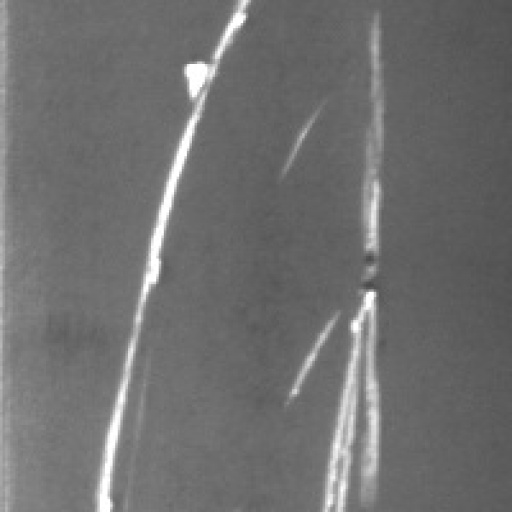scratches: (78, 2, 261, 512), (272, 3, 430, 510)
